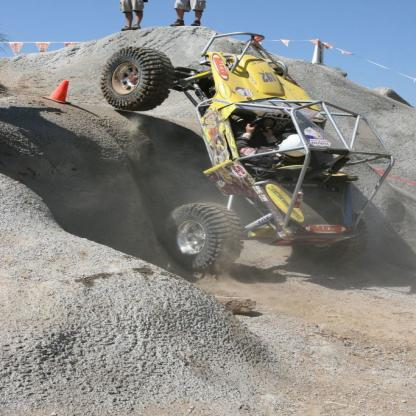Car: (101, 31, 398, 272)
